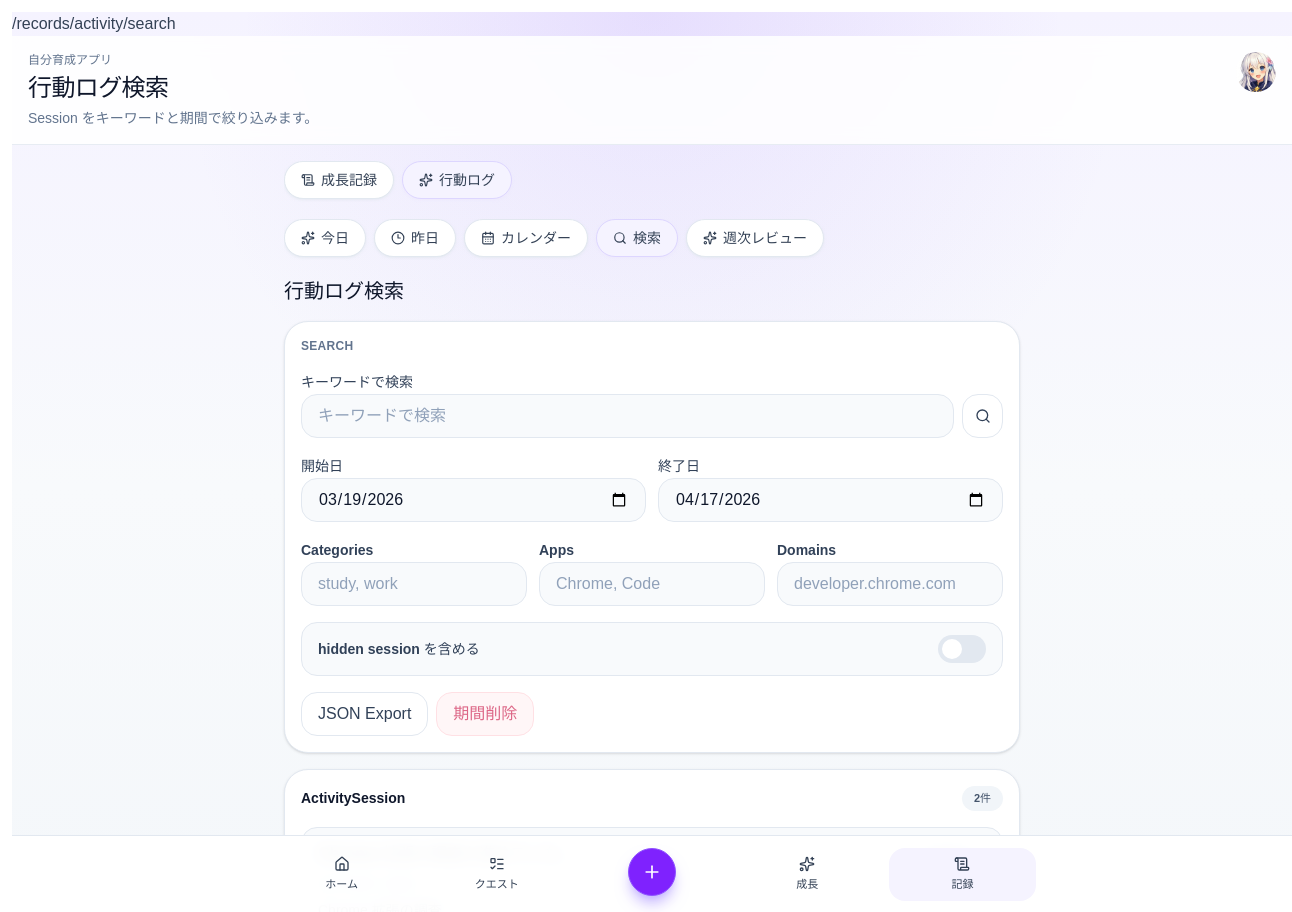
Test: activity log routes › uses a yearless weekly review nav link on activity screens and canonicalizes after navigation
The image size is (1292, 912).
Step 1. Click the link "週次レビュー" → (755, 238), box [686, 219, 824, 257]
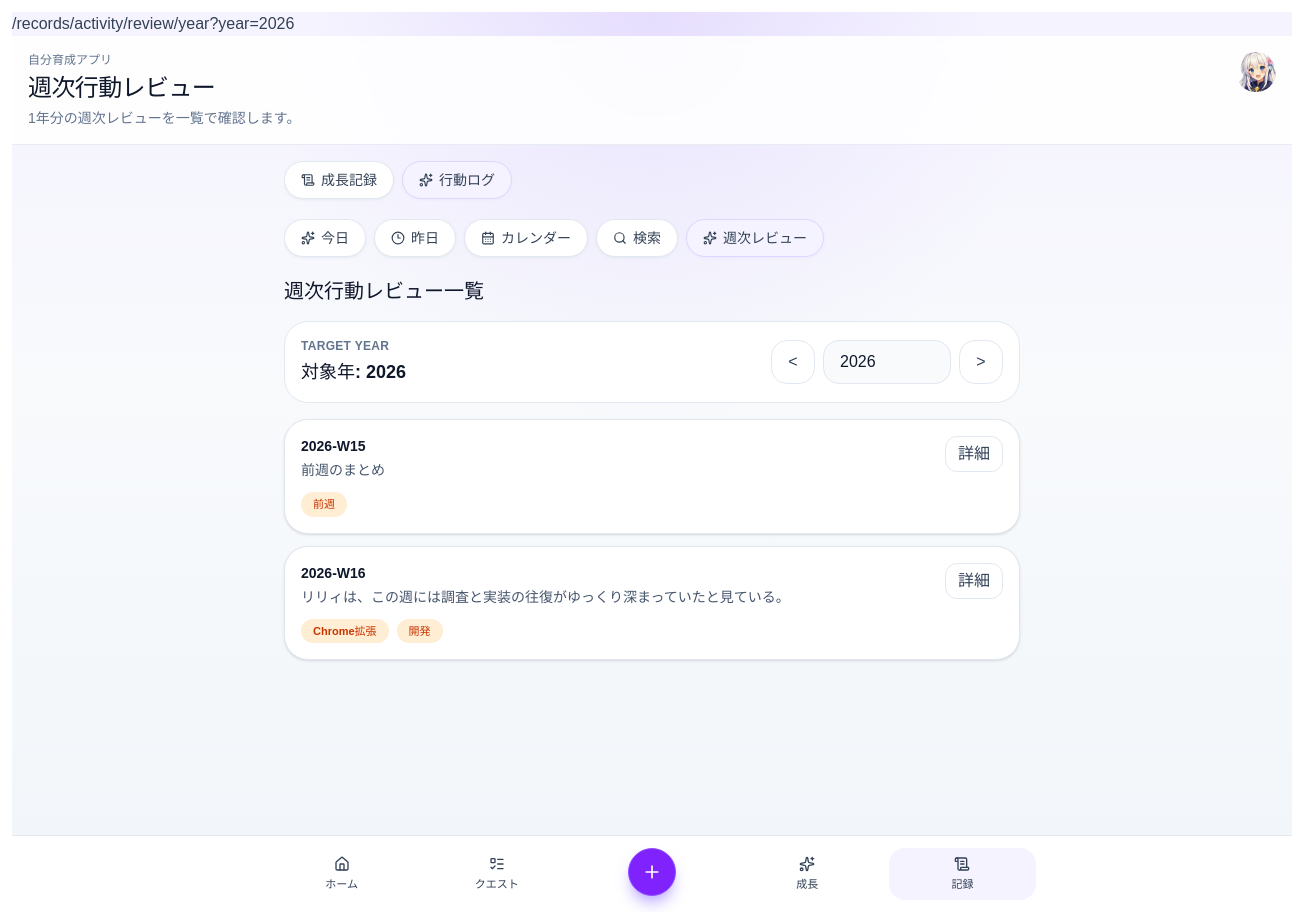
Result: the text with test id "location" reads "/records/activity/review/year?year=2026" at [12, 15, 294, 32]
